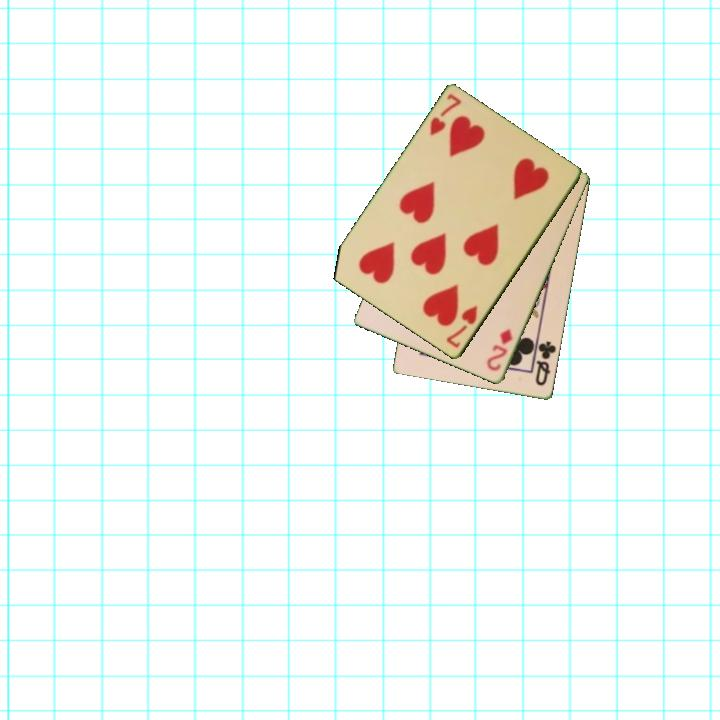2d: (483, 326, 516, 374)
7h: (443, 302, 481, 351), (426, 90, 464, 139)
Qc: (529, 335, 559, 389)
